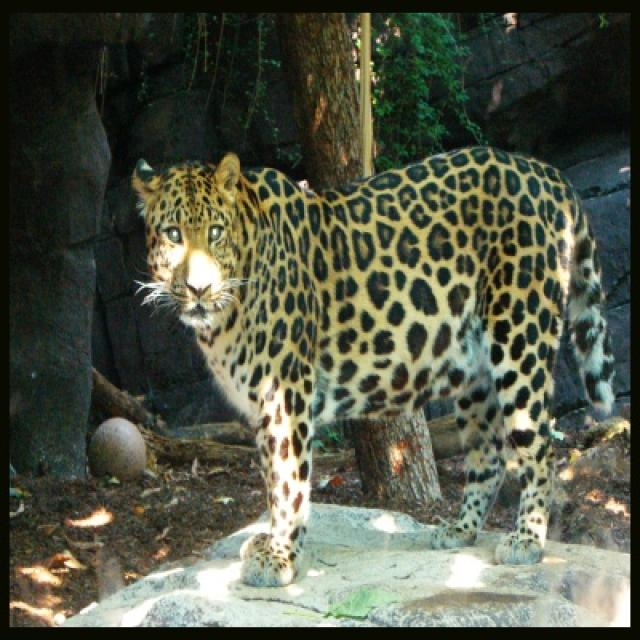Jaguar: (134, 141, 616, 580)
